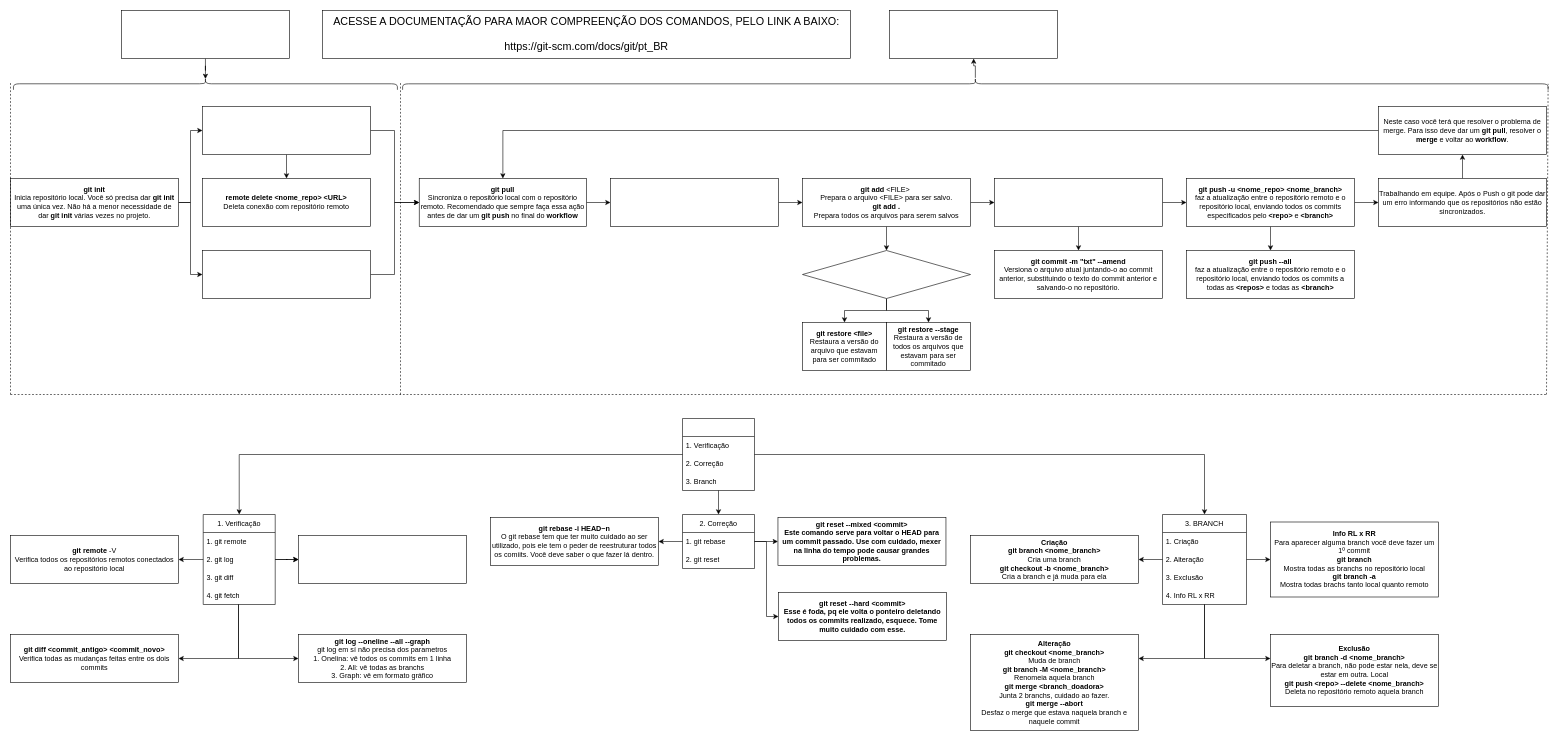
The diagram is 1559 pixels wide and 741 high, and some of its shapes have lost their labels. Here are the shapes that lost their labels. From the top down, the box of each, then its label:
(121, 10, 289, 58): Inicialização de Repositório e Conexões de Repositório.
(889, 10, 1058, 58): Work flow simples
(202, 106, 370, 154): remote add <nome_repo> <URL> Adiciona conexão com repositório remoto
(610, 178, 778, 226): git status Verifica como o repositório local se encontra perante seus arquivos.
(994, 178, 1162, 226): git commit -m "txt" Versiona o arquivo atual e salva-o no repositório.
(202, 250, 370, 298): git clone <URL> Clora um repositório remoto com todas as configurações.
(802, 250, 970, 298): git restore Ocorre após o git add e antes do commit não é obrigatório
(682, 418, 754, 490): Código Situacional
(298, 535, 466, 584): git fetch Atualiza os ponteiros HEAD entre o repositório local e remoto
